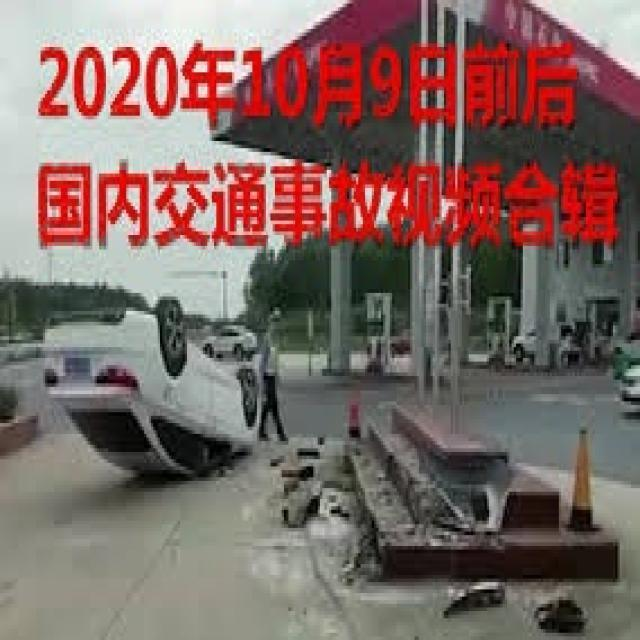accident: (35, 281, 286, 514)
